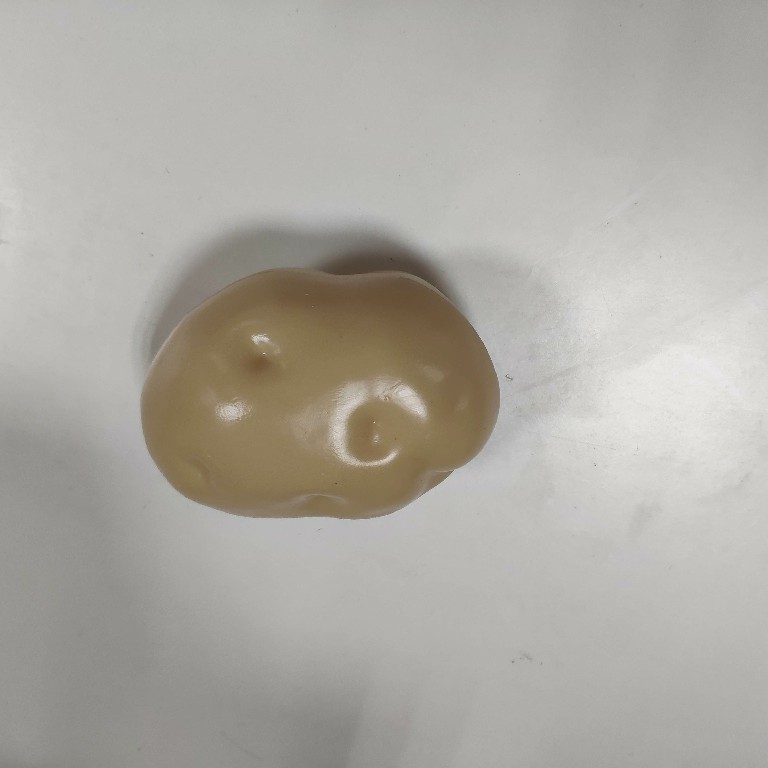fruit_potato: (135, 262, 503, 525)
